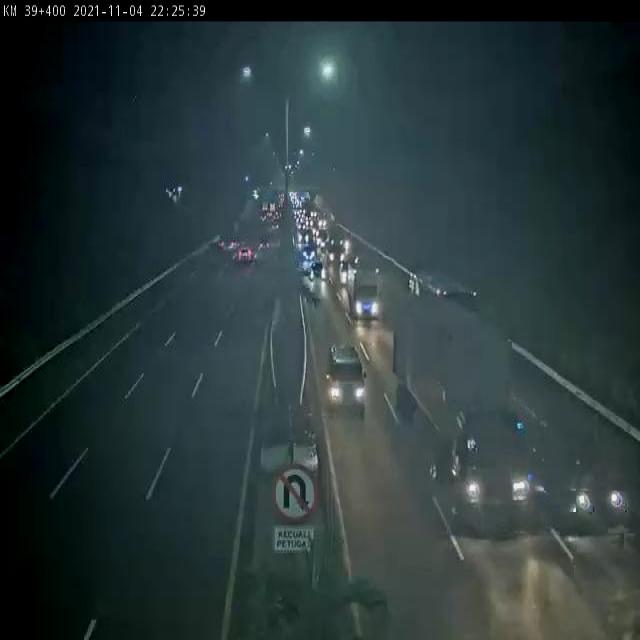Bus: (404, 269, 491, 307), (345, 260, 388, 330)
Car: (540, 431, 630, 536), (325, 337, 367, 415), (235, 244, 256, 268), (310, 258, 327, 284), (295, 230, 310, 248), (302, 244, 316, 263)
Truck: (388, 292, 526, 538)
